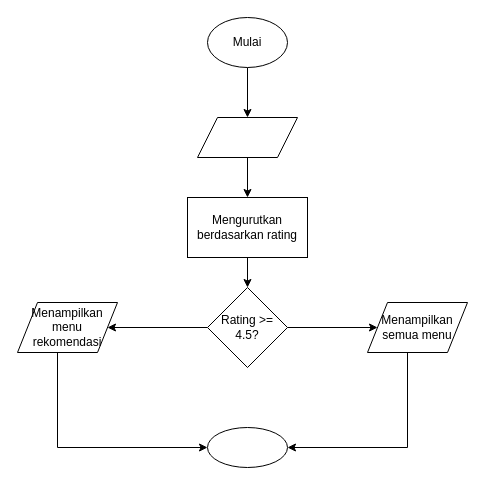
Image size: 485x485. Some labels were removed from this diagram. The box of each missing label's shape, as (x1, y1, x2, y2) in pixels:
Input menu: (196, 116, 298, 158)
Selesai: (206, 426, 288, 468)
